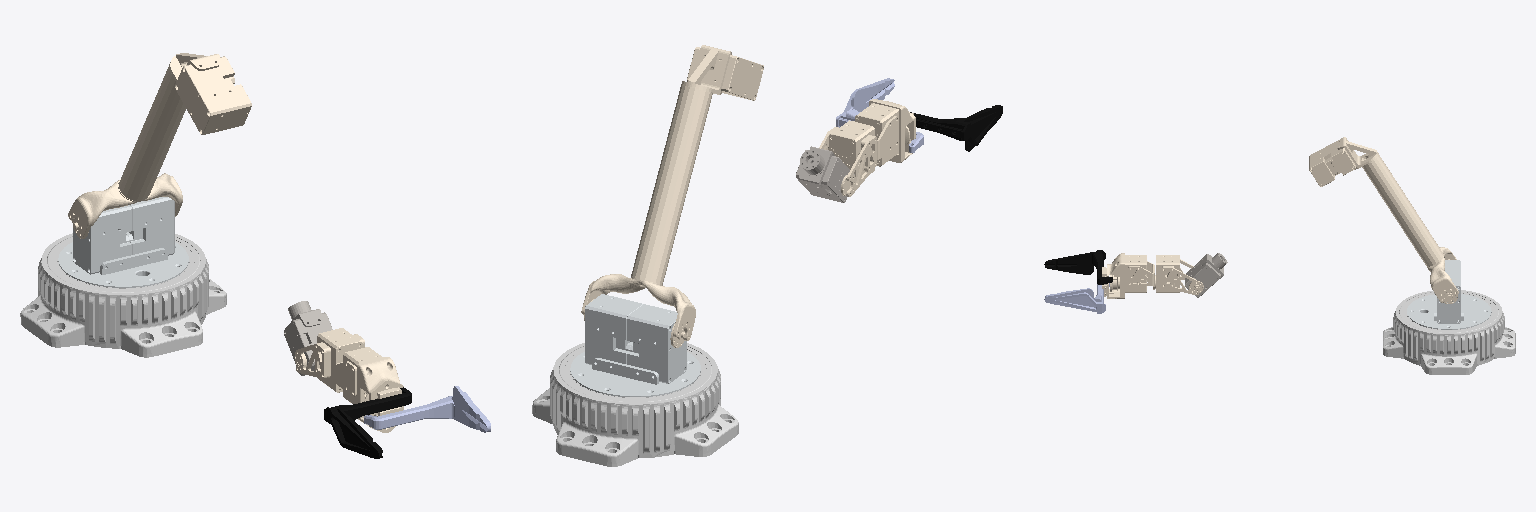
URDF robot description (Student_Arm.SLDASM):
<?xml version="1.0" encoding="utf-8"?>
<!-- This URDF was automatically created by SolidWorks to URDF Exporter! Originally created by [author] ([email redacted]) 
     Commit Version: 1.6.0-4-g7f85cfe  Build Version: 1.6.7995.38578
     For more information, please see http://wiki.ros.org/sw_urdf_exporter -->
<robot
  name="Student_Arm.SLDASM">
  <link
    name="base_link">
    <inertial>
      <origin
        xyz="3.75969511847914E-08 -0.0794517403190993 -0.00262773702860451"
        rpy="0 0 0" />
      <mass
        value="0.53383345184999" />
      <inertia
        ixx="0.00120475867367635"
        ixy="1.27494390418467E-09"
        ixz="2.59729358054216E-09"
        iyy="0.00226030030514847"
        iyz="4.04496125401711E-08"
        izz="0.00118360373666522" />
    </inertial>
    <visual>
      <origin
        xyz="0 0 0"
        rpy="0 0 0" />
      <geometry>
        <mesh
          filename="package://Student_Arm.SLDASM/meshes/base_link.STL" />
      </geometry>
      <material
        name="">
        <color
          rgba="0.898039215686275 0.898039215686275 0.898039215686275 1" />
      </material>
    </visual>
    <collision>
      <origin
        xyz="0 0 0"
        rpy="0 0 0" />
      <geometry>
        <mesh
          filename="package://Student_Arm.SLDASM/meshes/base_link.STL" />
      </geometry>
    </collision>
  </link>
  <link
    name="J1">
    <inertial>
      <origin
        xyz="7.6584E-17 -0.043917 -0.00015159"
        rpy="0 0 0" />
      <mass
        value="0.50399" />
      <inertia
        ixx="0.00041937"
        ixy="-1.0207E-18"
        ixz="-6.3805E-13"
        iyy="0.00072756"
        iyz="1.1488E-07"
        izz="0.00043326" />
    </inertial>
    <visual>
      <origin
        xyz="0 0 0"
        rpy="0 0 0" />
      <geometry>
        <mesh
          filename="package://Student_Arm.SLDASM/meshes/J1.STL" />
      </geometry>
      <material
        name="">
        <color
          rgba="0.89804 0.91765 0.92941 1" />
      </material>
    </visual>
    <collision>
      <origin
        xyz="0 0 0"
        rpy="0 0 0" />
      <geometry>
        <mesh
          filename="package://Student_Arm.SLDASM/meshes/J1.STL" />
      </geometry>
    </collision>
  </link>
  <joint
    name="J1"
    type="revolute">
    <origin
      xyz="0 0 0"
      rpy="1.5708 0 0" />
    <parent
      link="base_link" />
    <child
      link="J1" />
    <axis
      xyz="0 0 0" />
    <limit
      lower="0"
      upper="0"
      effort="0"
      velocity="0" />
  </joint>
  <link
    name="J2">
    <inertial>
      <origin
        xyz="-0.010661 0.099658 -0.022583"
        rpy="0 0 0" />
      <mass
        value="0.39279" />
      <inertia
        ixx="0.00039643"
        ixy="3.0543E-06"
        ixz="5.1939E-08"
        iyy="0.00031097"
        iyz="-5.3252E-09"
        izz="0.00017315" />
    </inertial>
    <visual>
      <origin
        xyz="0 0 0"
        rpy="0 0 0" />
      <geometry>
        <mesh
          filename="package://Student_Arm.SLDASM/meshes/J2.STL" />
      </geometry>
      <material
        name="">
        <color
          rgba="1 0.94902 0.87451 1" />
      </material>
    </visual>
    <collision>
      <origin
        xyz="0 0 0"
        rpy="0 0 0" />
      <geometry>
        <mesh
          filename="package://Student_Arm.SLDASM/meshes/J2.STL" />
      </geometry>
    </collision>
  </link>
  <joint
    name="J2"
    type="revolute">
    <origin
      xyz="0.0221 0 0"
      rpy="1.5708 1.0391 1.5708" />
    <parent
      link="J1" />
    <child
      link="J2" />
    <axis
      xyz="0 0 0" />
    <limit
      lower="0"
      upper="0"
      effort="0"
      velocity="0" />
  </joint>
  <link
    name="J3">
    <inertial>
      <origin
        xyz="-5.4188E-06 -0.095818 0.018544"
        rpy="0 0 0" />
      <mass
        value="0.20982" />
      <inertia
        ixx="0.00010657"
        ixy="4.3119E-08"
        ixz="8.3495E-10"
        iyy="7.5396E-05"
        iyz="-1.2745E-06"
        izz="7.1513E-05" />
    </inertial>
    <visual>
      <origin
        xyz="0 0 0"
        rpy="0 0 0" />
      <geometry>
        <mesh
          filename="package://Student_Arm.SLDASM/meshes/J3.STL" />
      </geometry>
      <material
        name="">
        <color
          rgba="1 0.94902 0.87451 1" />
      </material>
    </visual>
    <collision>
      <origin
        xyz="0 0 0"
        rpy="0 0 0" />
      <geometry>
        <mesh
          filename="package://Student_Arm.SLDASM/meshes/J3.STL" />
      </geometry>
    </collision>
  </link>
  <joint
    name="J3"
    type="continuous">
    <origin
      xyz="-0.06275 0.242 0"
      rpy="-3.1416 0 1.8245" />
    <parent
      link="J2" />
    <child
      link="J3" />
    <axis
      xyz="0 0 1" />
  </joint>
  <link
    name="J4">
    <inertial>
      <origin
        xyz="0.00022019 0.0013133 -0.0013133"
        rpy="0 0 0" />
      <mass
        value="0.060711" />
      <inertia
        ixx="1.2454E-05"
        ixy="-2.8007E-08"
        ixz="2.8007E-08"
        iyy="1.0671E-05"
        iyz="1.978E-06"
        izz="1.0671E-05" />
    </inertial>
    <visual>
      <origin
        xyz="0 0 0"
        rpy="0 0 0" />
      <geometry>
        <mesh
          filename="package://Student_Arm.SLDASM/meshes/J4.STL" />
      </geometry>
      <material
        name="">
        <color
          rgba="0.77647 0.75686 0.73725 1" />
      </material>
    </visual>
    <collision>
      <origin
        xyz="0 0 0"
        rpy="0 0 0" />
      <geometry>
        <mesh
          filename="package://Student_Arm.SLDASM/meshes/J4.STL" />
      </geometry>
    </collision>
  </link>
  <joint
    name="J4"
    type="continuous">
    <origin
      xyz="0 -0.23213 0.0221"
      rpy="0.7854 1.5708 0" />
    <parent
      link="J3" />
    <child
      link="J4" />
    <axis
      xyz="0 0.70711 -0.70711" />
  </joint>
  <link
    name="J5">
    <inertial>
      <origin
        xyz="-0.019335 0.035163 7.2334E-05"
        rpy="0 0 0" />
      <mass
        value="0.053474" />
      <inertia
        ixx="1.0022E-05"
        ixy="-1.688E-06"
        ixz="1.0669E-14"
        iyy="9.0857E-06"
        iyz="3.8078E-15"
        izz="1.3557E-05" />
    </inertial>
    <visual>
      <origin
        xyz="0 0 0"
        rpy="0 0 0" />
      <geometry>
        <mesh
          filename="package://Student_Arm.SLDASM/meshes/J5.STL" />
      </geometry>
      <material
        name="">
        <color
          rgba="1 0.94902 0.87451 1" />
      </material>
    </visual>
    <collision>
      <origin
        xyz="0 0 0"
        rpy="0 0 0" />
      <geometry>
        <mesh
          filename="package://Student_Arm.SLDASM/meshes/J5.STL" />
      </geometry>
    </collision>
  </link>
  <joint
    name="J5"
    type="continuous">
    <origin
      xyz="0 -0.012639 0.012639"
      rpy="1.5708 0.80221 1.5708" />
    <parent
      link="J4" />
    <child
      link="J5" />
    <axis
      xyz="0 0 1" />
  </joint>
  <link
    name="J6">
    <inertial>
      <origin
        xyz="-0.0064673240335944 -0.00293644104444194 0.0472563360776681"
        rpy="0 0 0" />
      <mass
        value="0.10498725932869" />
      <inertia
        ixx="1.33725101539202E-05"
        ixy="-3.44362818758654E-06"
        ixz="2.32769709578376E-07"
        iyy="1.93402341638447E-05"
        iyz="2.04901766859891E-07"
        izz="2.19519821270149E-05" />
    </inertial>
    <visual>
      <origin
        xyz="0 0 0"
        rpy="0 0 0" />
      <geometry>
        <mesh
          filename="package://Student_Arm.SLDASM/meshes/J6.STL" />
      </geometry>
      <material
        name="">
        <color
          rgba="1 0.949019607843137 0.874509803921569 1" />
      </material>
    </visual>
    <collision>
      <origin
        xyz="0 0 0"
        rpy="0 0 0" />
      <geometry>
        <mesh
          filename="package://Student_Arm.SLDASM/meshes/J6.STL" />
      </geometry>
    </collision>
  </link>
  <joint
    name="J6"
    type="continuous">
    <origin
      xyz="-0.041089 0.03973 0"
      rpy="1.5708 0.40912 -2.3394" />
    <parent
      link="J5" />
    <child
      link="J6" />
    <axis
      xyz="0 0 1" />
  </joint>
  <link
    name="Gripper_Left">
    <inertial>
      <origin
        xyz="-0.0435776349966507 0.0054585842211822 0.504829642372828"
        rpy="0 0 0" />
      <mass
        value="0.0189723242002883" />
      <inertia
        ixx="9.09666378713769E-06"
        ixy="-1.08307332825005E-06"
        ixz="4.87220147818776E-06"
        iyy="2.01383755676178E-05"
        iyz="1.4188515926364E-06"
        izz="1.28431013052015E-05" />
    </inertial>
    <visual>
      <origin
        xyz="0 0 0"
        rpy="0 0 0" />
      <geometry>
        <mesh
          filename="package://Student_Arm.SLDASM/meshes/Gripper_Left.STL" />
      </geometry>
      <material
        name="">
        <color
          rgba="0.101960784313725 0.101960784313725 0.101960784313725 1" />
      </material>
    </visual>
    <collision>
      <origin
        xyz="0 0 0"
        rpy="0 0 0" />
      <geometry>
        <mesh
          filename="package://Student_Arm.SLDASM/meshes/Gripper_Left.STL" />
      </geometry>
    </collision>
  </link>
  <joint
    name="GL"
    type="prismatic">
    <origin
      xyz="-0.0010648 0.0024559 -0.41061"
      rpy="0 0 1.9799" />
    <parent
      link="J6" />
    <child
      link="Gripper_Left" />
    <axis
      xyz="-1 0 0" />
    <limit
      lower="0"
      upper="0"
      effort="0"
      velocity="0" />
  </joint>
  <link
    name="Gripper_Right">
    <inertial>
      <origin
        xyz="0.00354141577881787 -0.0195206741241875 0.0346723650033463"
        rpy="0 0 0" />
      <mass
        value="0.0189723242002881" />
      <inertia
        ixx="2.01383755676177E-05"
        ixy="1.41885159263639E-06"
        ixz="1.08307332825005E-06"
        iyy="1.28431013052015E-05"
        iyz="-4.87220147818762E-06"
        izz="9.09666378713763E-06" />
    </inertial>
    <visual>
      <origin
        xyz="0 0 0"
        rpy="0 0 0" />
      <geometry>
        <mesh
          filename="package://Student_Arm.SLDASM/meshes/Gripper_Right.STL" />
      </geometry>
      <material
        name="">
        <color
          rgba="0.792156862745098 0.819607843137255 0.933333333333333 1" />
      </material>
    </visual>
    <collision>
      <origin
        xyz="0 0 0"
        rpy="0 0 0" />
      <geometry>
        <mesh
          filename="package://Student_Arm.SLDASM/meshes/Gripper_Right.STL" />
      </geometry>
    </collision>
  </link>
  <joint
    name="GR"
    type="prismatic">
    <origin
      xyz="-0.021806 0.072917 0.0747"
      rpy="-1.5708 0 -2.7325" />
    <parent
      link="J6" />
    <child
      link="Gripper_Right" />
    <axis
      xyz="0 0 1" />
    <limit
      lower="0"
      upper="0"
      effort="0"
      velocity="0" />
  </joint>
</robot>

--- Facts derived from the render (not from the file) ---
Views: 3 orthographic renders of the robot side by side, from view 1: azimuth 30°, elevation 25°; view 2: azimuth 150°, elevation 25°; view 3: azimuth 270°, elevation 25°.
Robot: Student_Arm.SLDASM — 9 links, 8 joints (2 revolute, 4 continuous, 2 prismatic); root link base_link; default pose: every joint at zero.
Links seen in each view (by area): view 1: base_link, J2, J1, J6, Gripper_Left, Gripper_Right, J5, J4; view 2: base_link, J2, J1, J5, J6, J4, Gripper_Left, Gripper_Right; view 3: base_link, J2, J1, J6, J5, Gripper_Left, Gripper_Right, J4.
Link boxes in pixels (<box>): base_link: <box>20,233,226,357</box>; J2: <box>68,53,251,238</box>; J1: <box>58,197,188,287</box>; J6: <box>336,347,403,432</box>; Gripper_Left: <box>324,387,411,458</box>; Gripper_Right: <box>364,386,490,432</box>; J5: <box>295,328,364,392</box>; J4: <box>284,301,332,375</box>; base_link: <box>532,343,738,466</box>; J2: <box>581,45,763,347</box>; J1: <box>570,294,700,396</box>; J5: <box>819,120,876,196</box>; J6: <box>854,99,915,166</box>; J4: <box>796,146,854,202</box>; Gripper_Left: <box>910,105,1002,151</box>; Gripper_Right: <box>836,78,923,152</box>; base_link: <box>1383,290,1515,374</box>; J2: <box>1309,137,1458,303</box>; J1: <box>1407,260,1491,329</box>; J6: <box>1102,253,1155,298</box>; J5: <box>1156,255,1203,294</box>; Gripper_Left: <box>1044,250,1112,284</box>; Gripper_Right: <box>1044,283,1109,313</box>; J4: <box>1185,253,1227,297</box>.
Size in the robot's own frame: 0.186 by 0.6599 by 0.3172 metres.
Meshes: 9 distinct files referenced, 8 mesh visuals loaded (8 binary STL); not drawn: 1 (reference not matched to a file when rendering).